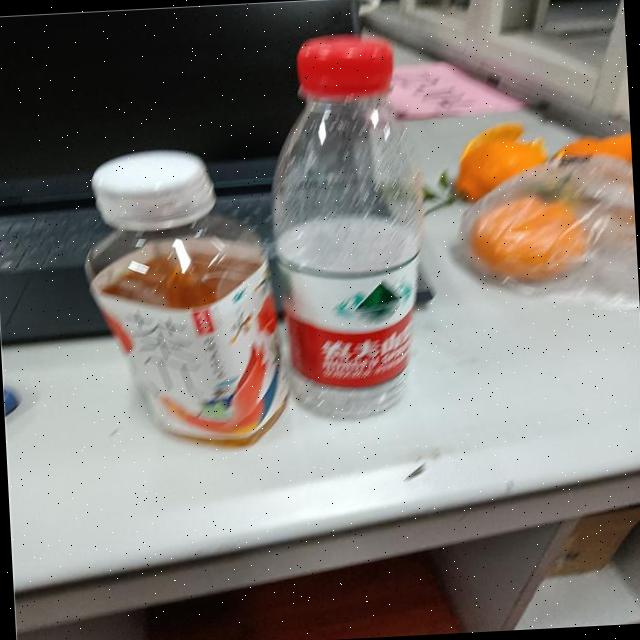orange-peel: (466, 189, 590, 285)
